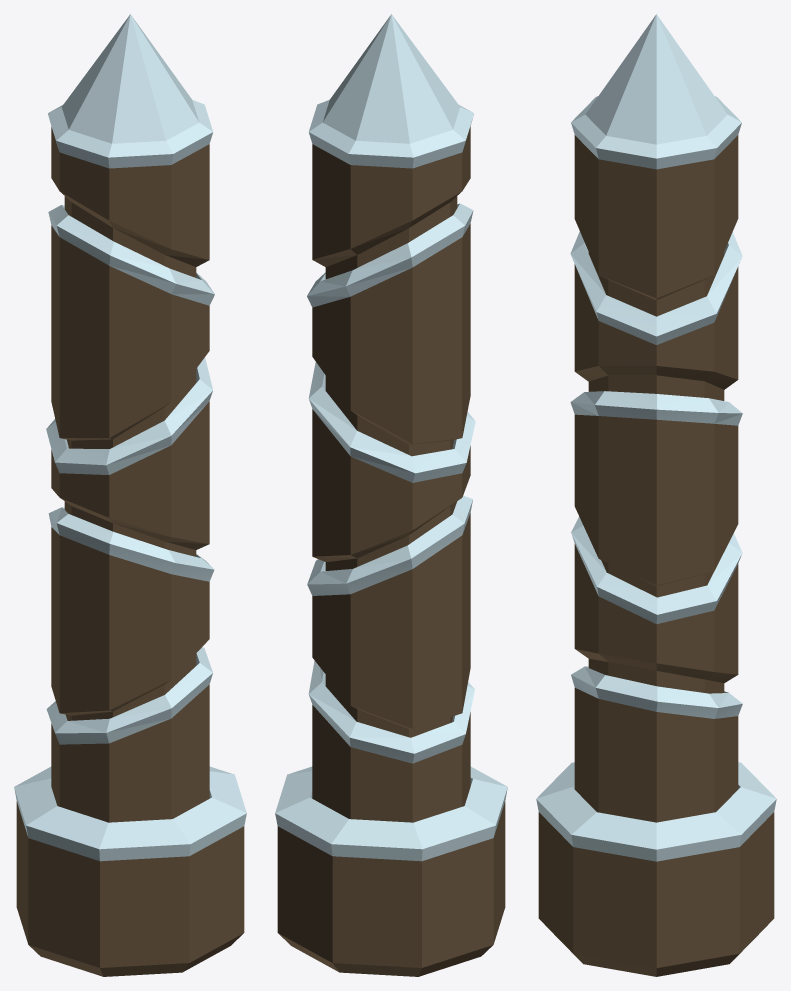
Rendered from Poste02.glb.
3 renders of one model, left to right at view 1: azimuth 30°, elevation 25°; view 2: azimuth 150°, elevation 25°; view 3: azimuth 270°, elevation 25°, orthographic.
Visible parts, largest first — view 1: SM_Prop_Pole_03_Snow; view 2: SM_Prop_Pole_03_Snow; view 3: SM_Prop_Pole_03_Snow.
Part boxes in pixels (<box>): SM_Prop_Pole_03_Snow: <box>14,14,246,976</box>; SM_Prop_Pole_03_Snow: <box>275,14,507,976</box>; SM_Prop_Pole_03_Snow: <box>536,14,776,976</box>.
Size of the model in its own units: 0.3963 by 1.67 by 0.3963.
1 material, 1 textured.
